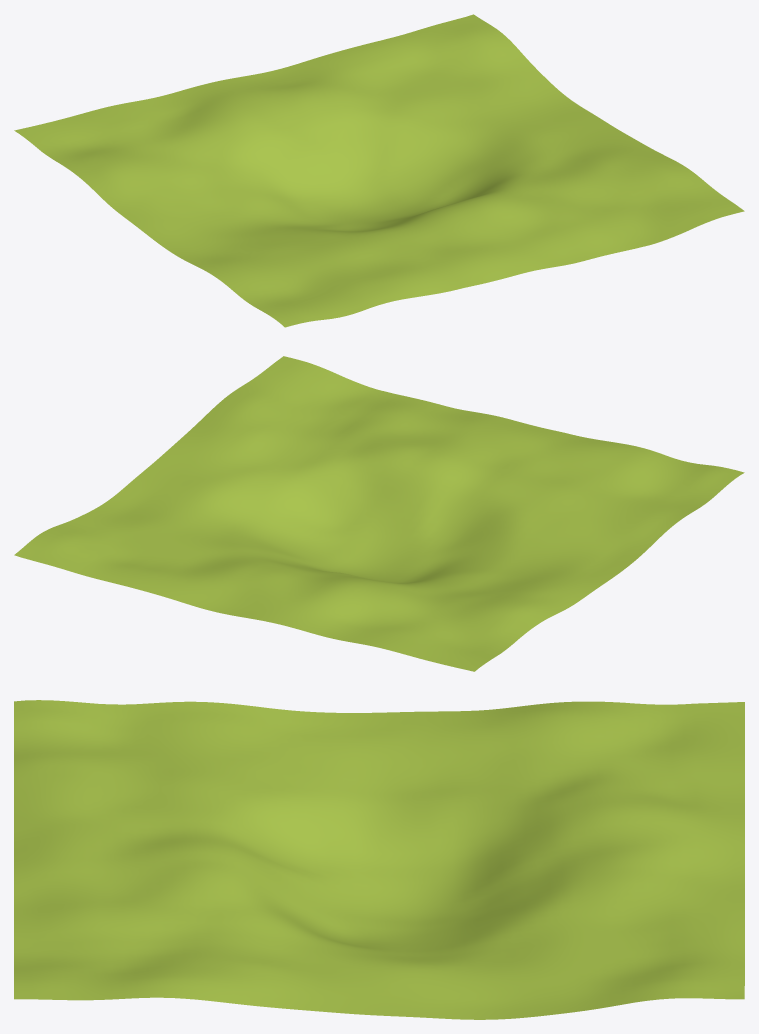
Rendered from bosse_neg1.fbx.
3 views of the same model, one above another, from view 1: azimuth 30°, elevation 25°; view 2: azimuth 150°, elevation 25°; view 3: azimuth 270°, elevation 25° (orthographic). The views are drawn at different scales.
Visible parts, largest first — view 1: bosse_neg1; view 2: bosse_neg1; view 3: bosse_neg1.
Part boxes in pixels (x1=…): bosse_neg1: x1=14, y1=14, x2=744, y2=327; bosse_neg1: x1=14, y1=356, x2=744, y2=671; bosse_neg1: x1=14, y1=700, x2=744, y2=1019.
Bounding box in the file's own units: 709 × 72.97 × 720.
